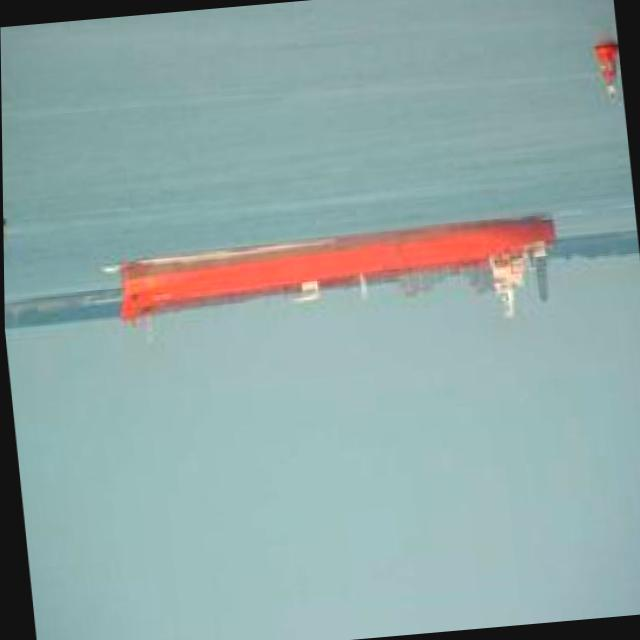ship2: (117, 212, 556, 326)
